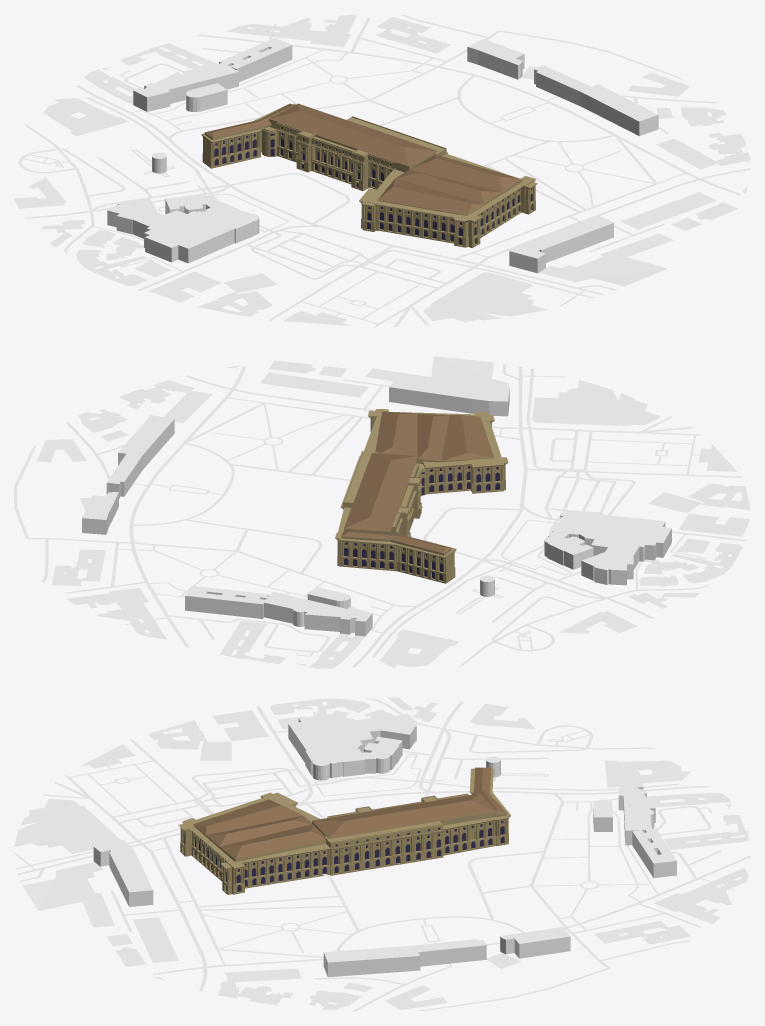
The model's file is bucarest_palais_royal.glb.
The picture shows the model from 3 angles, top to bottom: view 1: azimuth 30°, elevation 25°; view 2: azimuth 150°, elevation 25°; view 3: azimuth 270°, elevation 25°; orthographic projection.
Parts seen in each view (by area): view 1: city-flat-bordeaux, Palais de Bucarest, city-bordeaux; view 2: city-flat-bordeaux, city-bordeaux, Palais de Bucarest; view 3: city-flat-bordeaux, Palais de Bucarest, city-bordeaux.
Boxes of the visible parts, bbox=[...] form: city-flat-bordeaux: bbox=[14, 14, 750, 327]; Palais de Bucarest: bbox=[201, 103, 537, 248]; city-bordeaux: bbox=[107, 38, 658, 273]; city-flat-bordeaux: bbox=[14, 356, 750, 668]; city-bordeaux: bbox=[82, 377, 671, 636]; Palais de Bucarest: bbox=[335, 409, 508, 583]; city-flat-bordeaux: bbox=[14, 697, 750, 1011]; Palais de Bucarest: bbox=[178, 767, 510, 894]; city-bordeaux: bbox=[93, 713, 676, 977].
Size of the model in its own units: 1.15 by 0.067 by 1.14.
